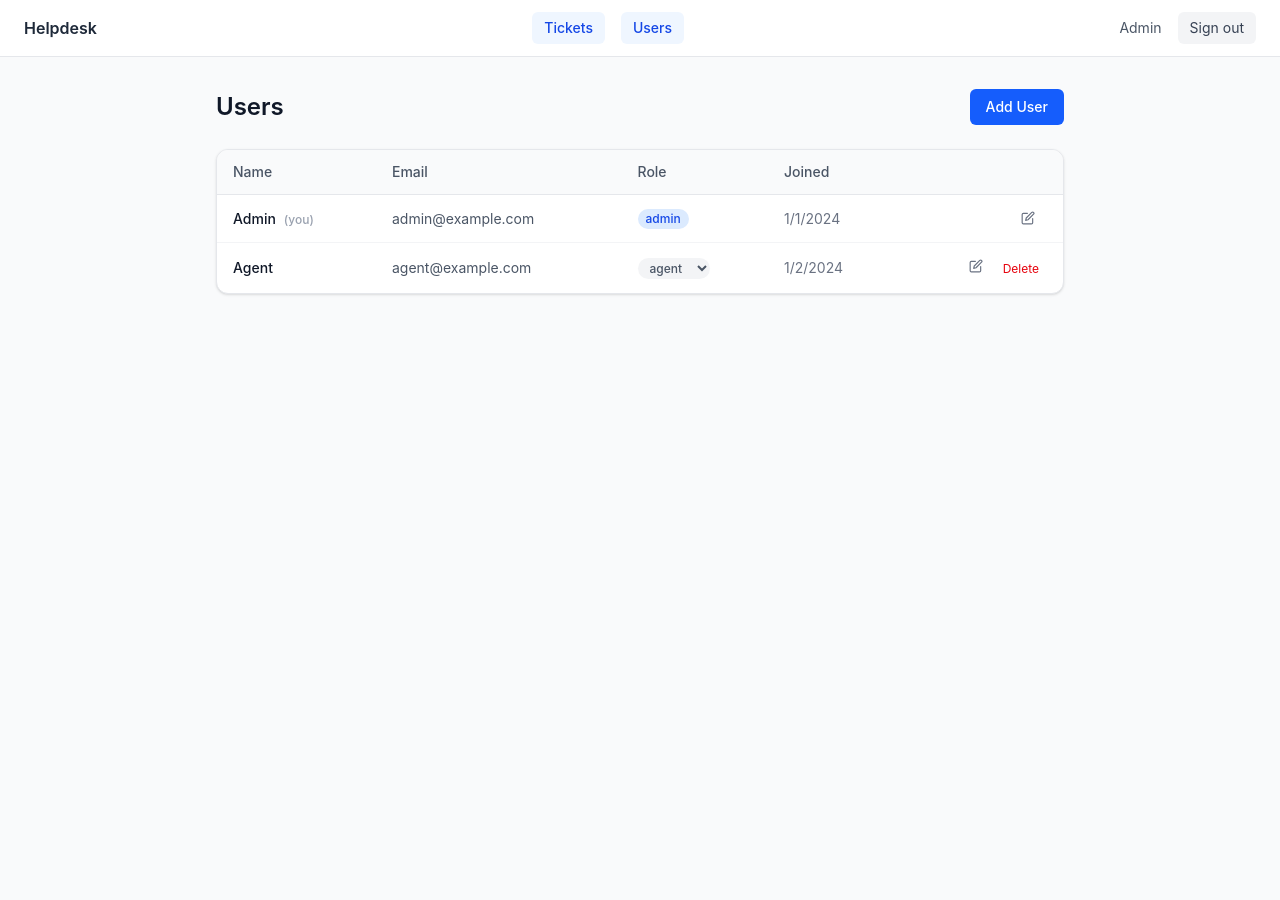
Test: Add User form › appears when Add User is clicked
Expected: the text "admin@example.com" is shown, [376,194,622,242]
Click the button "Add User" at (1017, 107), box [970,89,1064,125]
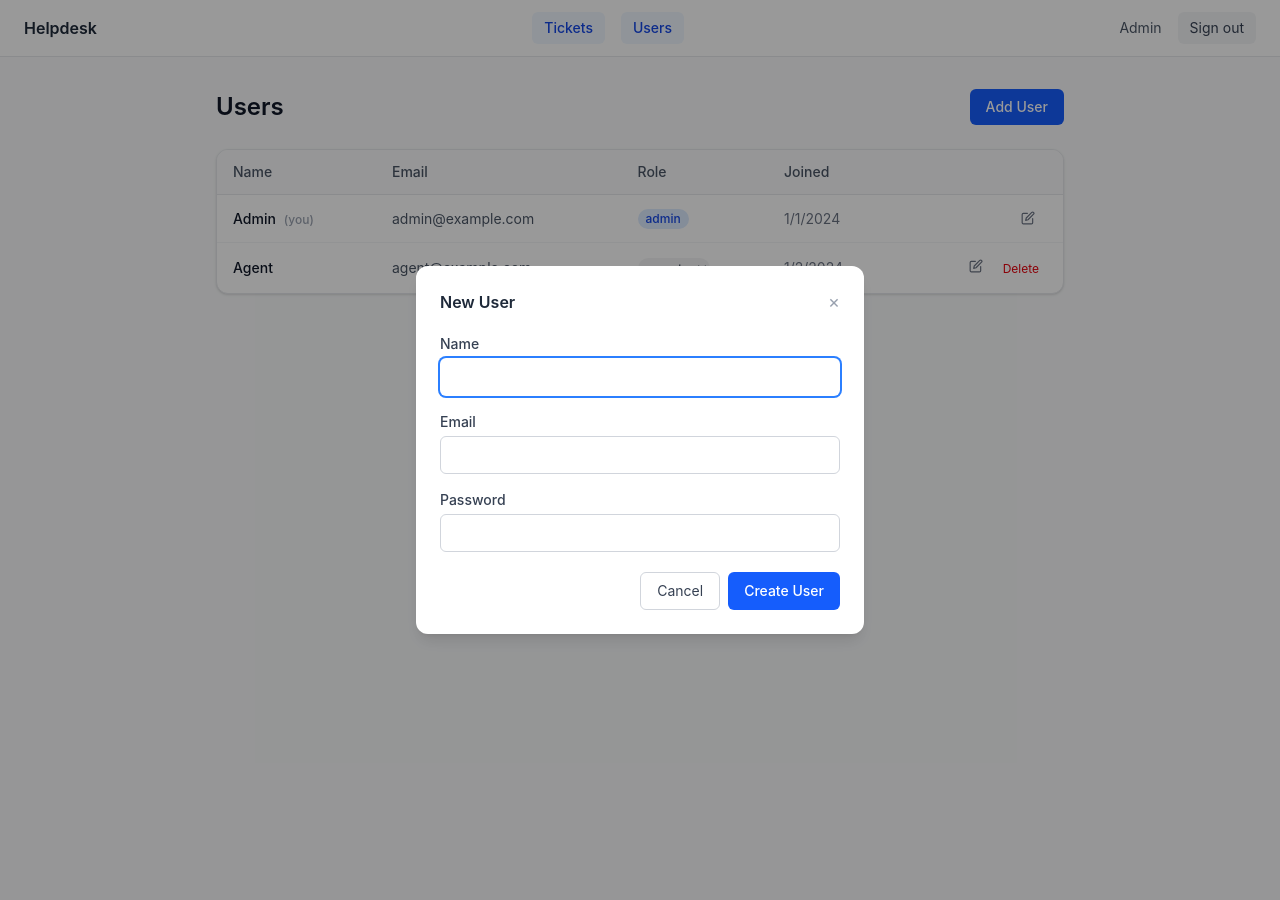
Expected: the heading "New User" is shown, [440,290,515,314]
